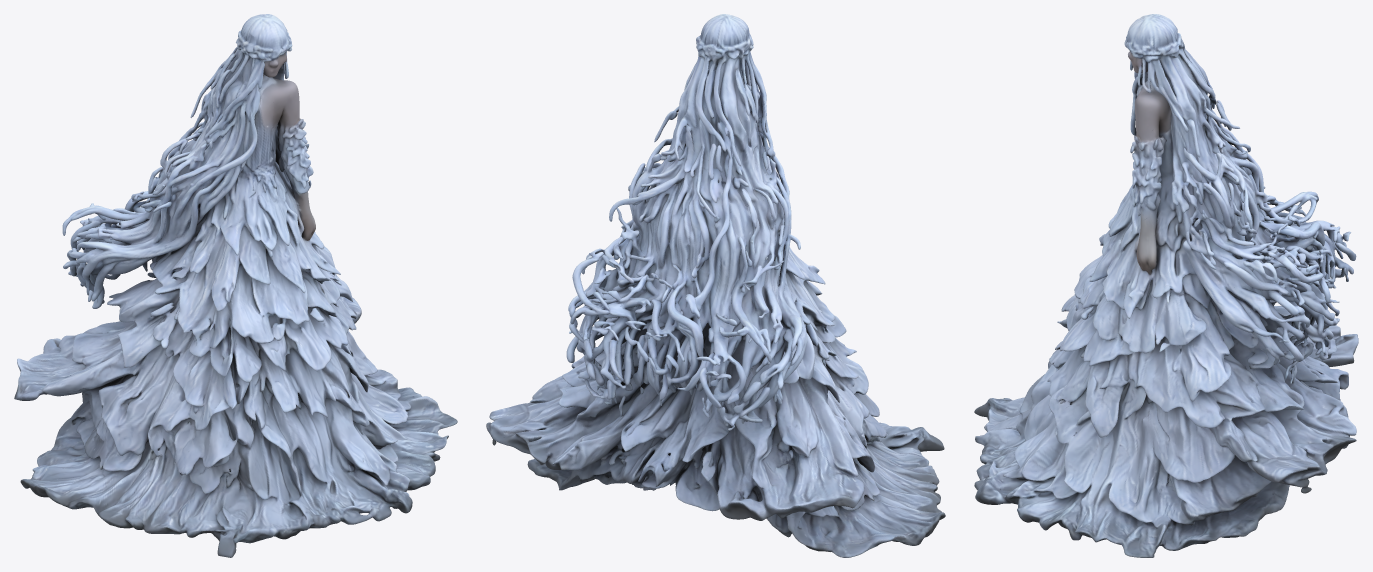
File: woman.glb
The picture shows the model from 3 angles, left to right: view 1: azimuth 30°, elevation 25°; view 2: azimuth 150°, elevation 25°; view 3: azimuth 270°, elevation 25°; orthographic projection. The views are drawn at different scales.
Parts seen in each view (by area): view 1: model; view 2: model; view 3: model.
Part boxes in pixels (x1=…): model: x1=14, y1=14, x2=457, y2=557; model: x1=486, y1=14, x2=945, y2=557; model: x1=974, y1=14, x2=1358, y2=557.
Bounding box in the file's own units: 1.57 × 1.69 × 1.28.
Materials: 1 (1 with a texture image).
